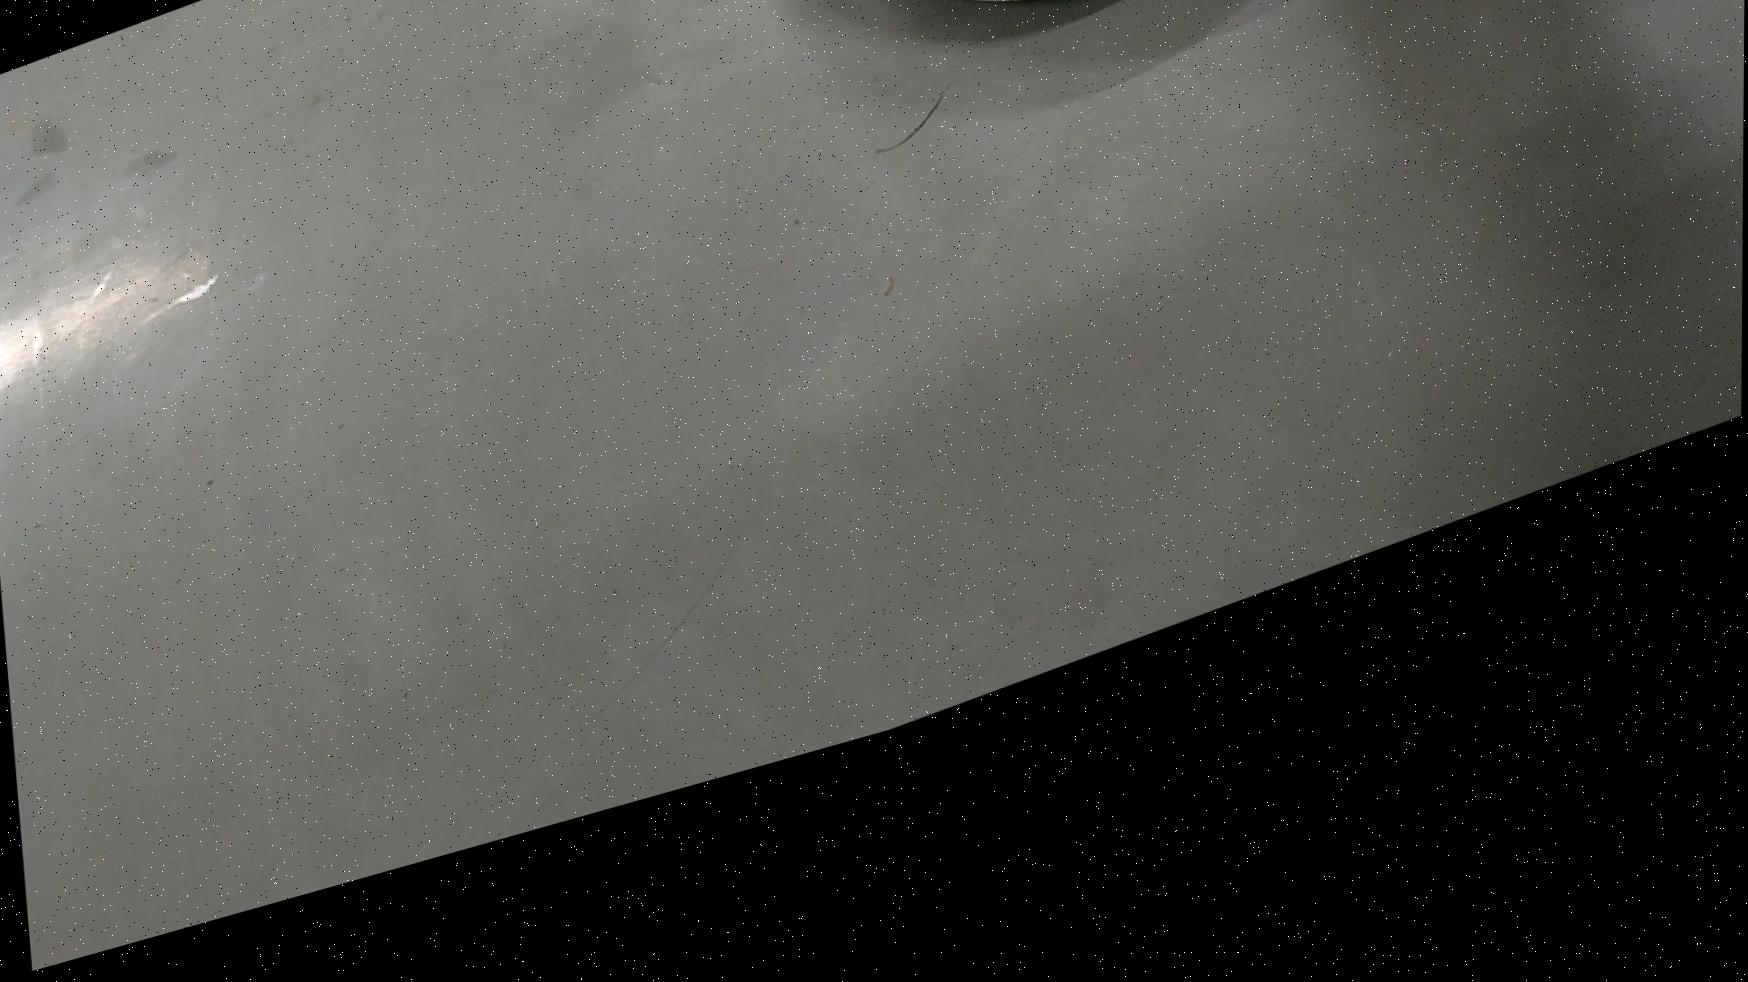plate: (797, 0, 1409, 142)
